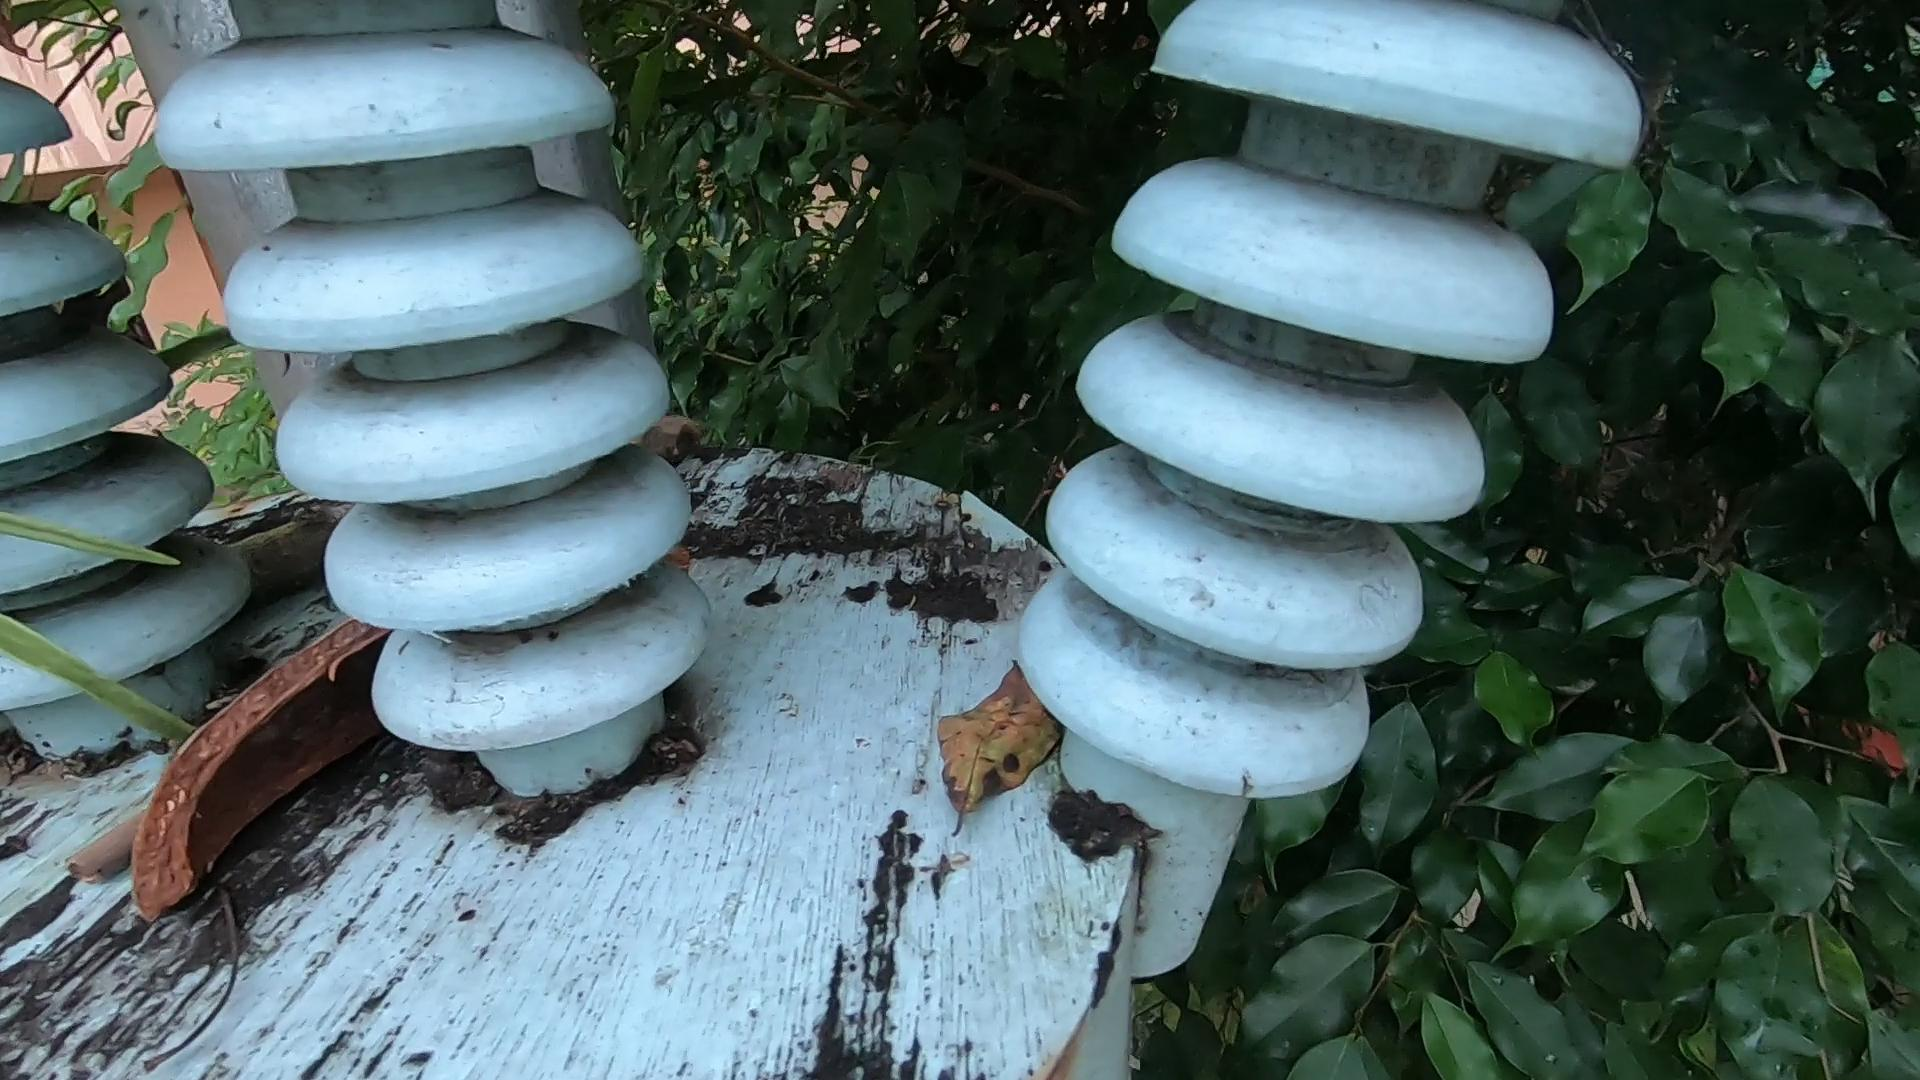leaf: (910, 609, 1079, 836)
tree branch: (178, 394, 454, 605), (22, 764, 367, 909)
